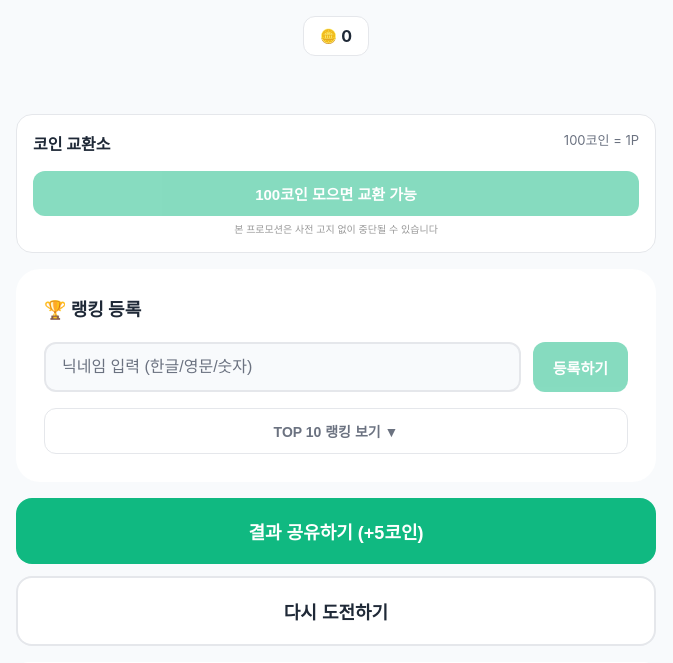
Test: ResultPage › 랭킹 제출 핸들러 › should show rank after successful submission
This screenshot has width=673, height=663.
(page scrolled)
Type "테스트유저" into the field with placeholder "닉네임 입력 (한글/영문/숫자)" at (282, 367), box [44,342,521,392]
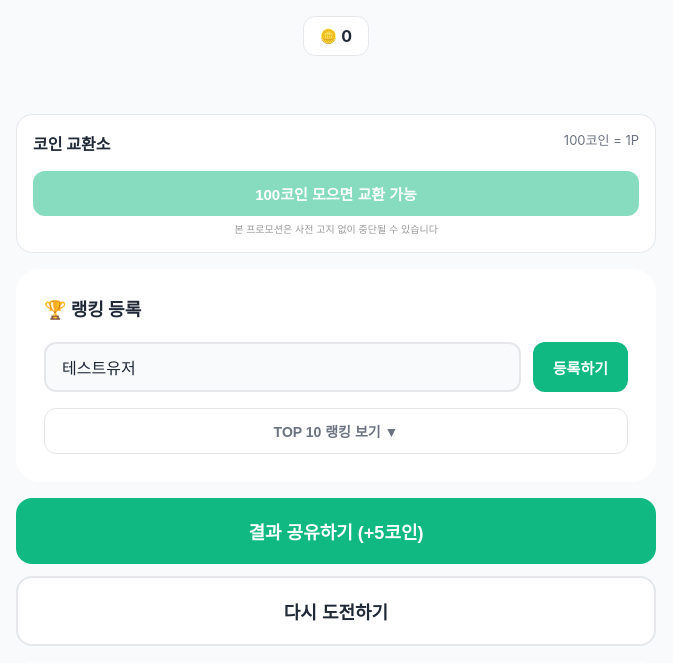
Click the button "등록하기" at (580, 367), box [533,342,628,392]
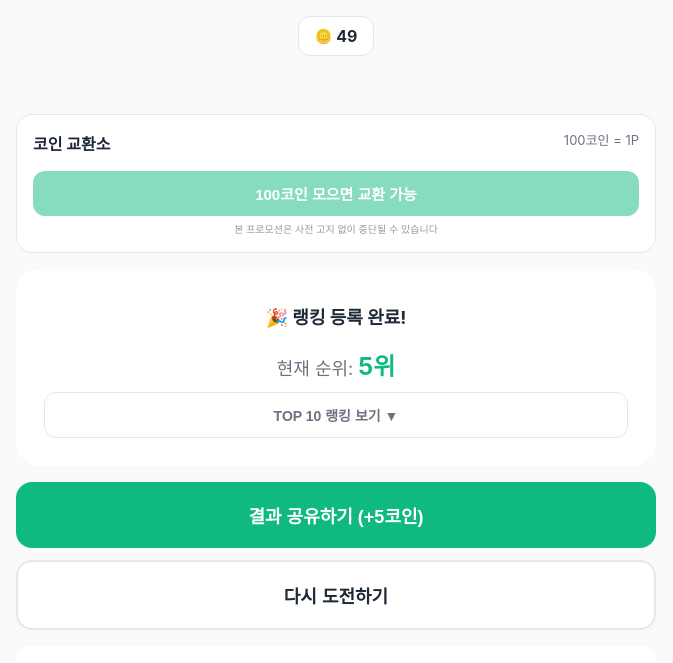
Result: the text "5위" is shown at [358,352,395,381]
